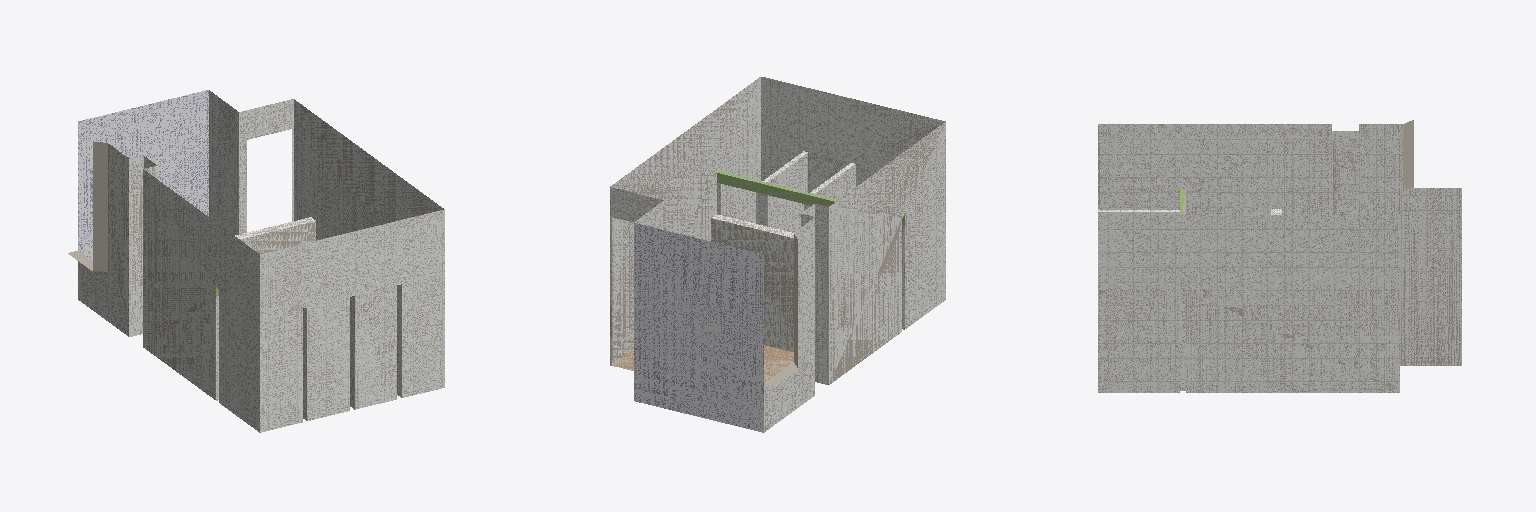
3 views of the same model, side by side, from view 1: azimuth 30°, elevation 25°; view 2: azimuth 150°, elevation 25°; view 3: azimuth 270°, elevation 25° (orthographic).
Visible parts, largest first — view 1: Mesh1 Group1 Model; view 2: Mesh1 Group1 Model; view 3: Mesh1 Group1 Model.
Boxes of the visible parts, x1=… form: Mesh1 Group1 Model: x1=68, y1=90, x2=444, y2=432; Mesh1 Group1 Model: x1=610, y1=77, x2=945, y2=432; Mesh1 Group1 Model: x1=1098, y1=120, x2=1461, y2=392.
Bounding box in the file's own units: 4.14 × 3.6 × 6.64.
6 materials, 1 textured.